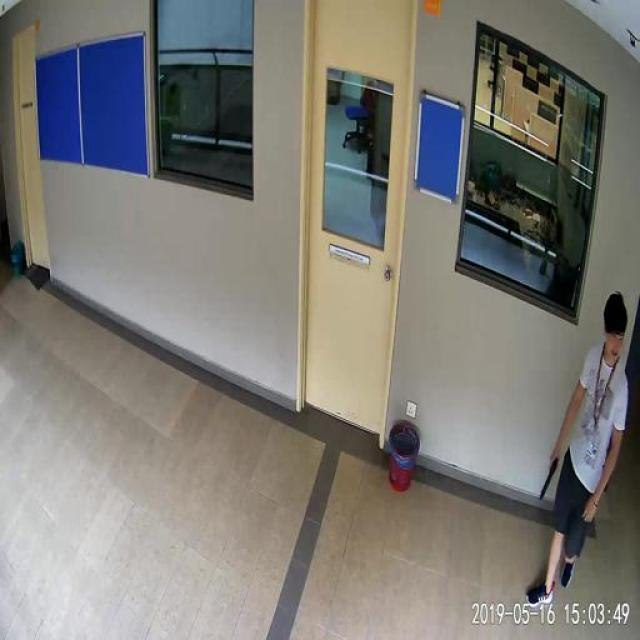Gun: (532, 448, 561, 507)
